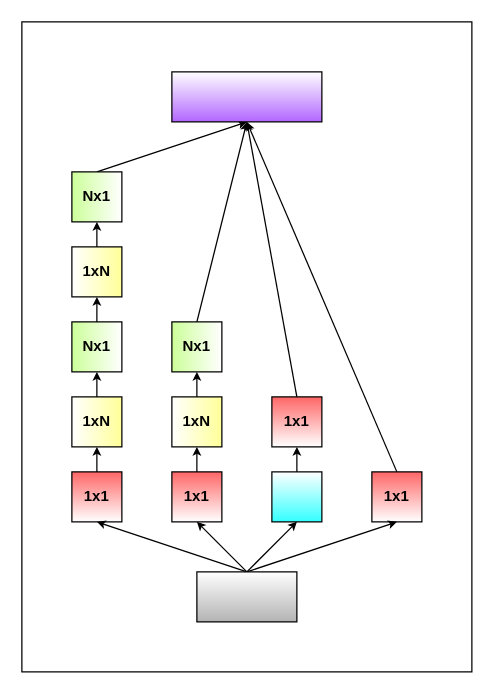
Image size: 494x694. Some labels were removed from this diagram. Each missing label, with the box of its shape:
Base: (196, 571, 297, 622)
FILTER Concat: (171, 71, 322, 122)
pool: (271, 471, 322, 522)
